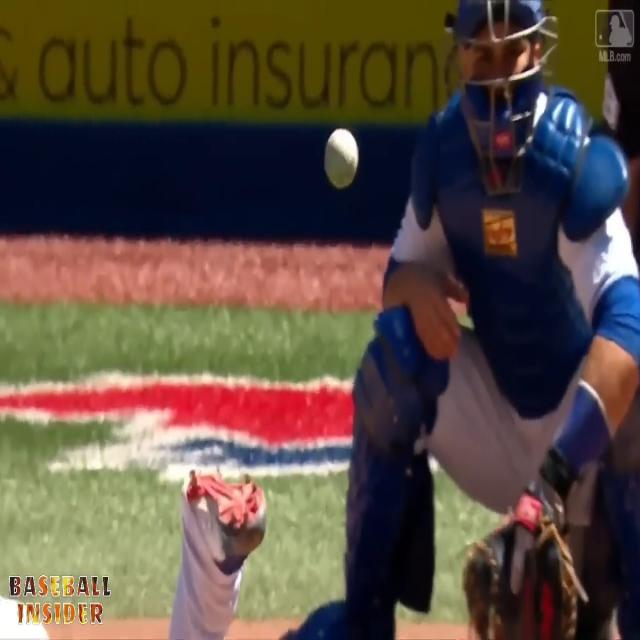baseball: (324, 126, 359, 191)
